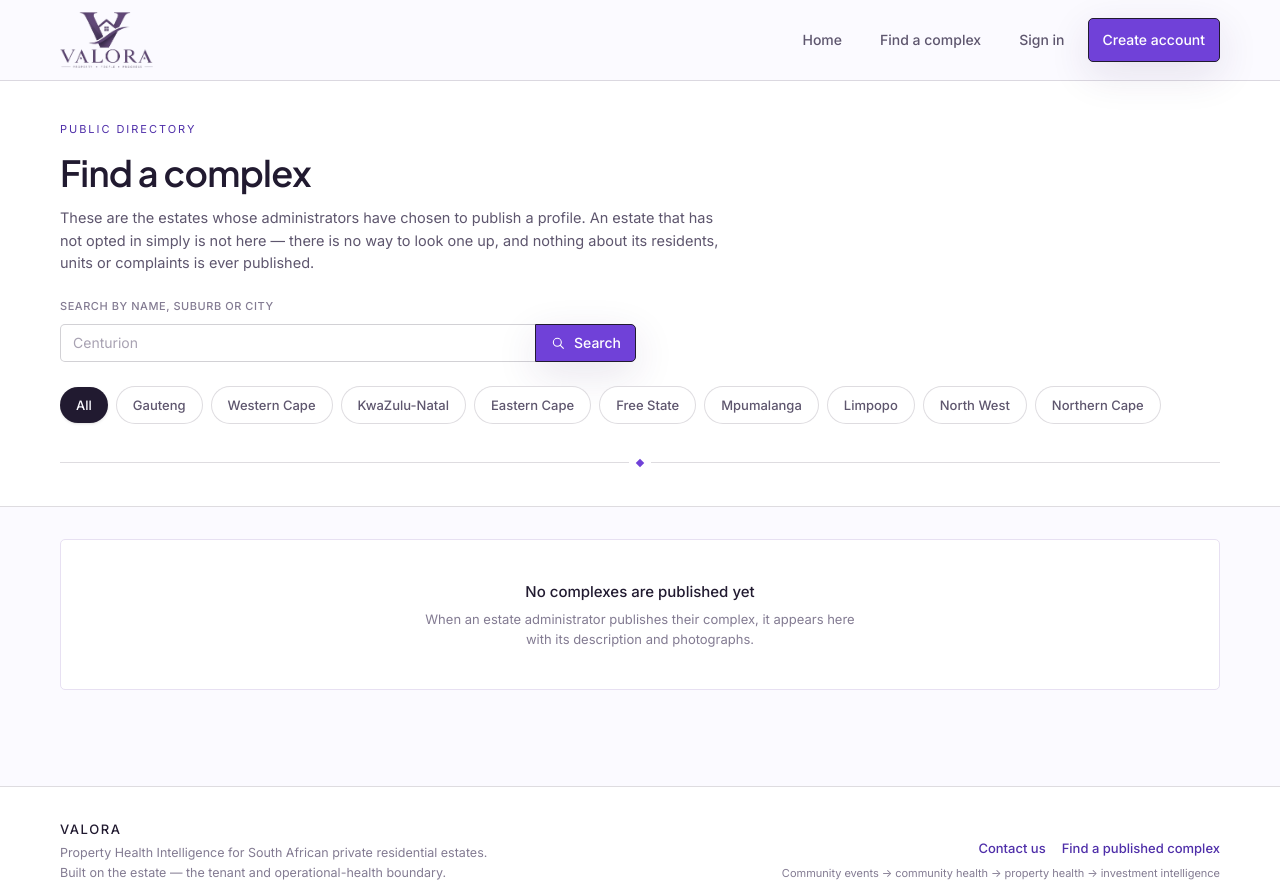
PublicEstates › tells "no match" apart from "nothing published"
Expected: the text "No complexes are published yet" is shown, [525,582,755,601]
In the search field labelled "Search by name, suburb or city": [298, 342] box [60,324,535,362], type "Nowhere"
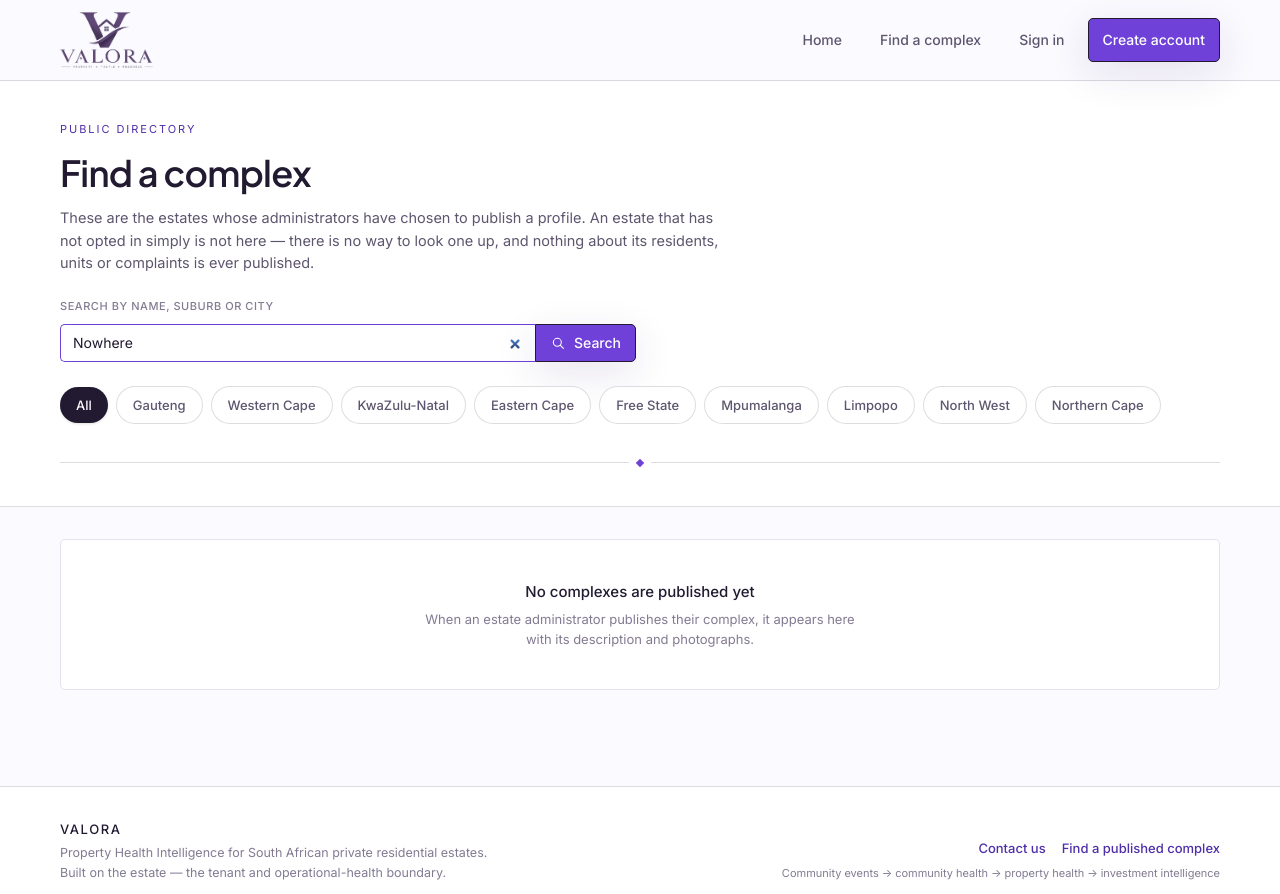
Click the button "Search": [586, 342] box [535,324,636,362]
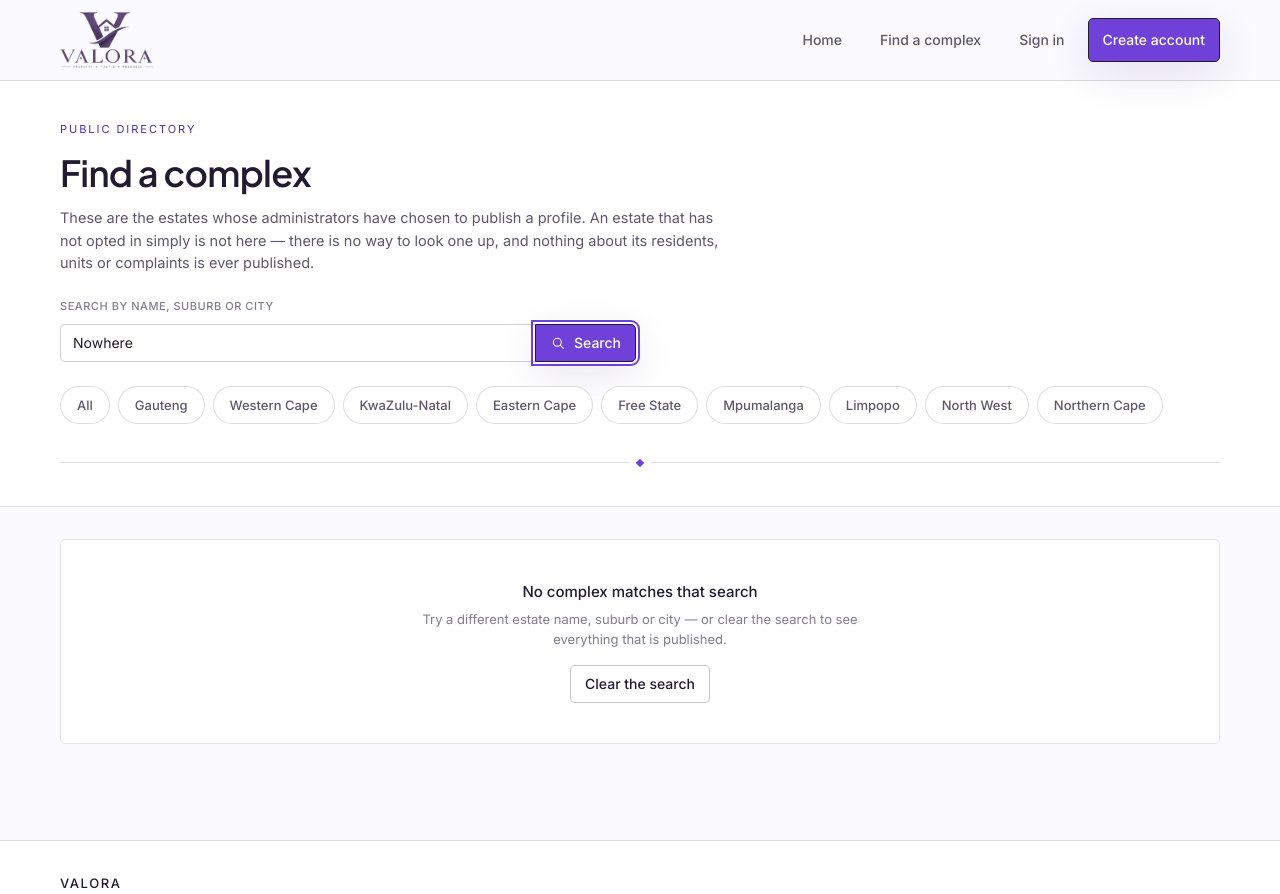
Expected: the text "No complex matches that search" is shown, [522,582,758,601]
Expected: the text "clear the search to see everything" is shown, [422,611,858,647]
